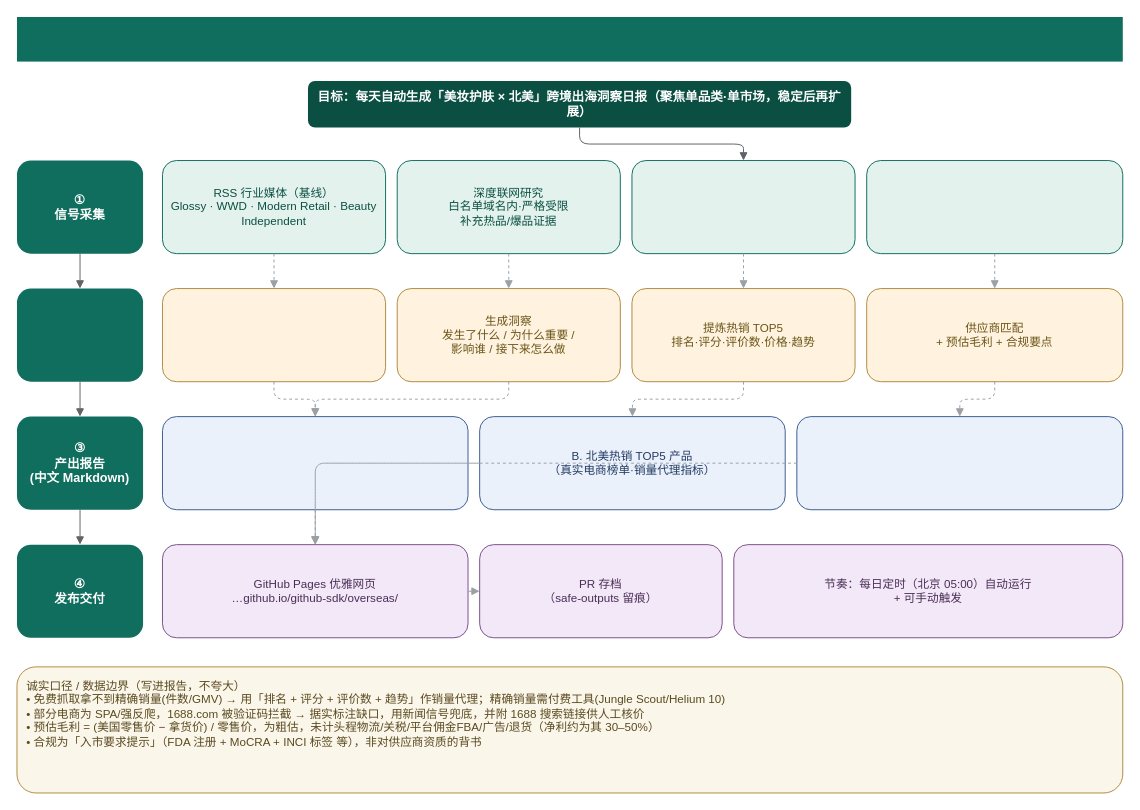
This 1140x810 diagram has some shape labels left out. Each missing label, with the box of its shape:
1688 / Alibaba 供应链 供应商 · 拿货价 · MOQ: (866, 160, 1123, 254)
A. 热点话题 + 选品 / 营销洞察 + 风险合规: (162, 416, 468, 510)
C. 供应链落地（逐产品） 供应商 / 拿货价 / 毛利 / 合规 + 链接: (796, 416, 1123, 510)
Lab-04 出海市场洞察日报 — 业务逻辑图: (16, 16, 1122, 61)
② 加工分析: (16, 288, 143, 381)
电商畅销榜（销量代理） Amazon · Sephora · Ulta · Target · TikTok Shop: (631, 160, 855, 254)
聚类热点话题 跨源趋势 + 高信号单条: (162, 288, 386, 382)
